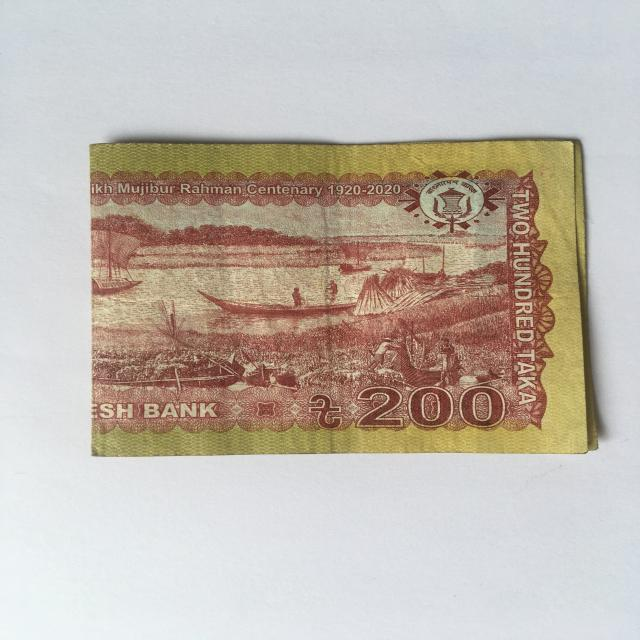Taka: (80, 138, 606, 463)
